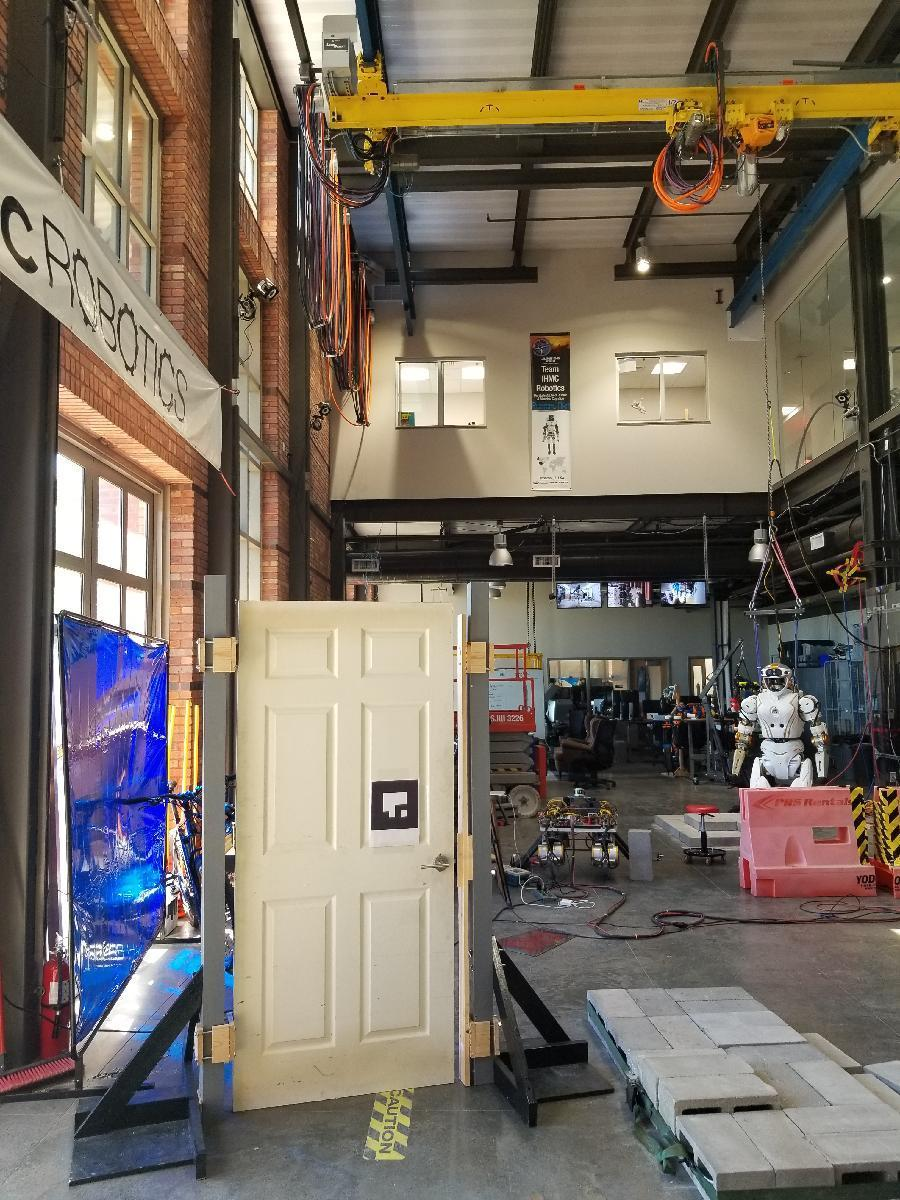door: (238, 598, 458, 1101)
handle: (422, 852, 452, 874)
